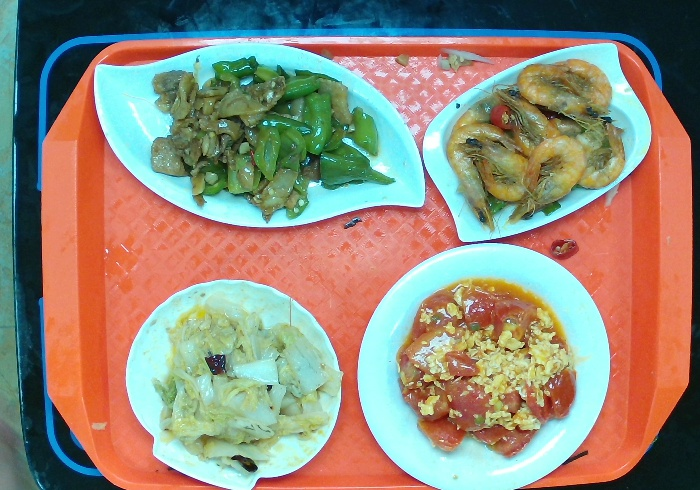RJxy-Bei_Ke_Wan: (122, 271, 351, 490)
RJxy-Jian_Jiao_Fang_Die: (417, 37, 662, 244)
RJxy-Jian_Jiao_Pan: (91, 38, 429, 229)
RJxy-Yuan_Pan: (353, 242, 614, 490)
